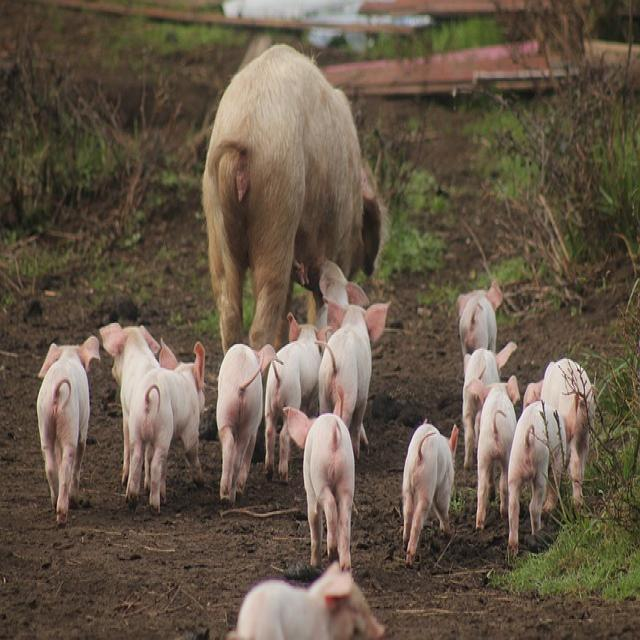sheep: (201, 42, 382, 356), (119, 332, 205, 512), (226, 559, 385, 638), (36, 333, 101, 526), (281, 404, 355, 573), (317, 299, 391, 460), (215, 341, 283, 505), (263, 311, 323, 484), (99, 320, 160, 487), (506, 398, 566, 557), (539, 356, 596, 514), (401, 418, 458, 566), (461, 340, 517, 470), (474, 374, 520, 530), (456, 278, 503, 373), (317, 258, 369, 338), (37, 334, 101, 378), (522, 379, 542, 410)
